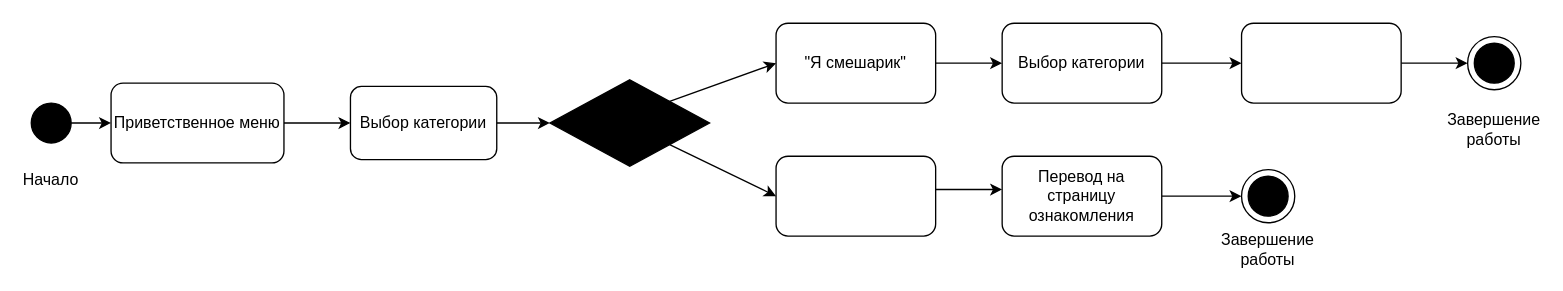
This 1563x291 diagram has some shape labels left out. Each missing label, with the box of its shape:
"Я новенький": (775, 155, 936, 236)
Оформление заказа: (1240, 22, 1401, 103)
